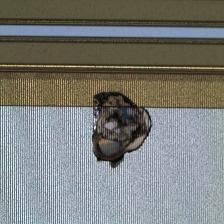PARTICLE: (75, 88, 159, 172)
